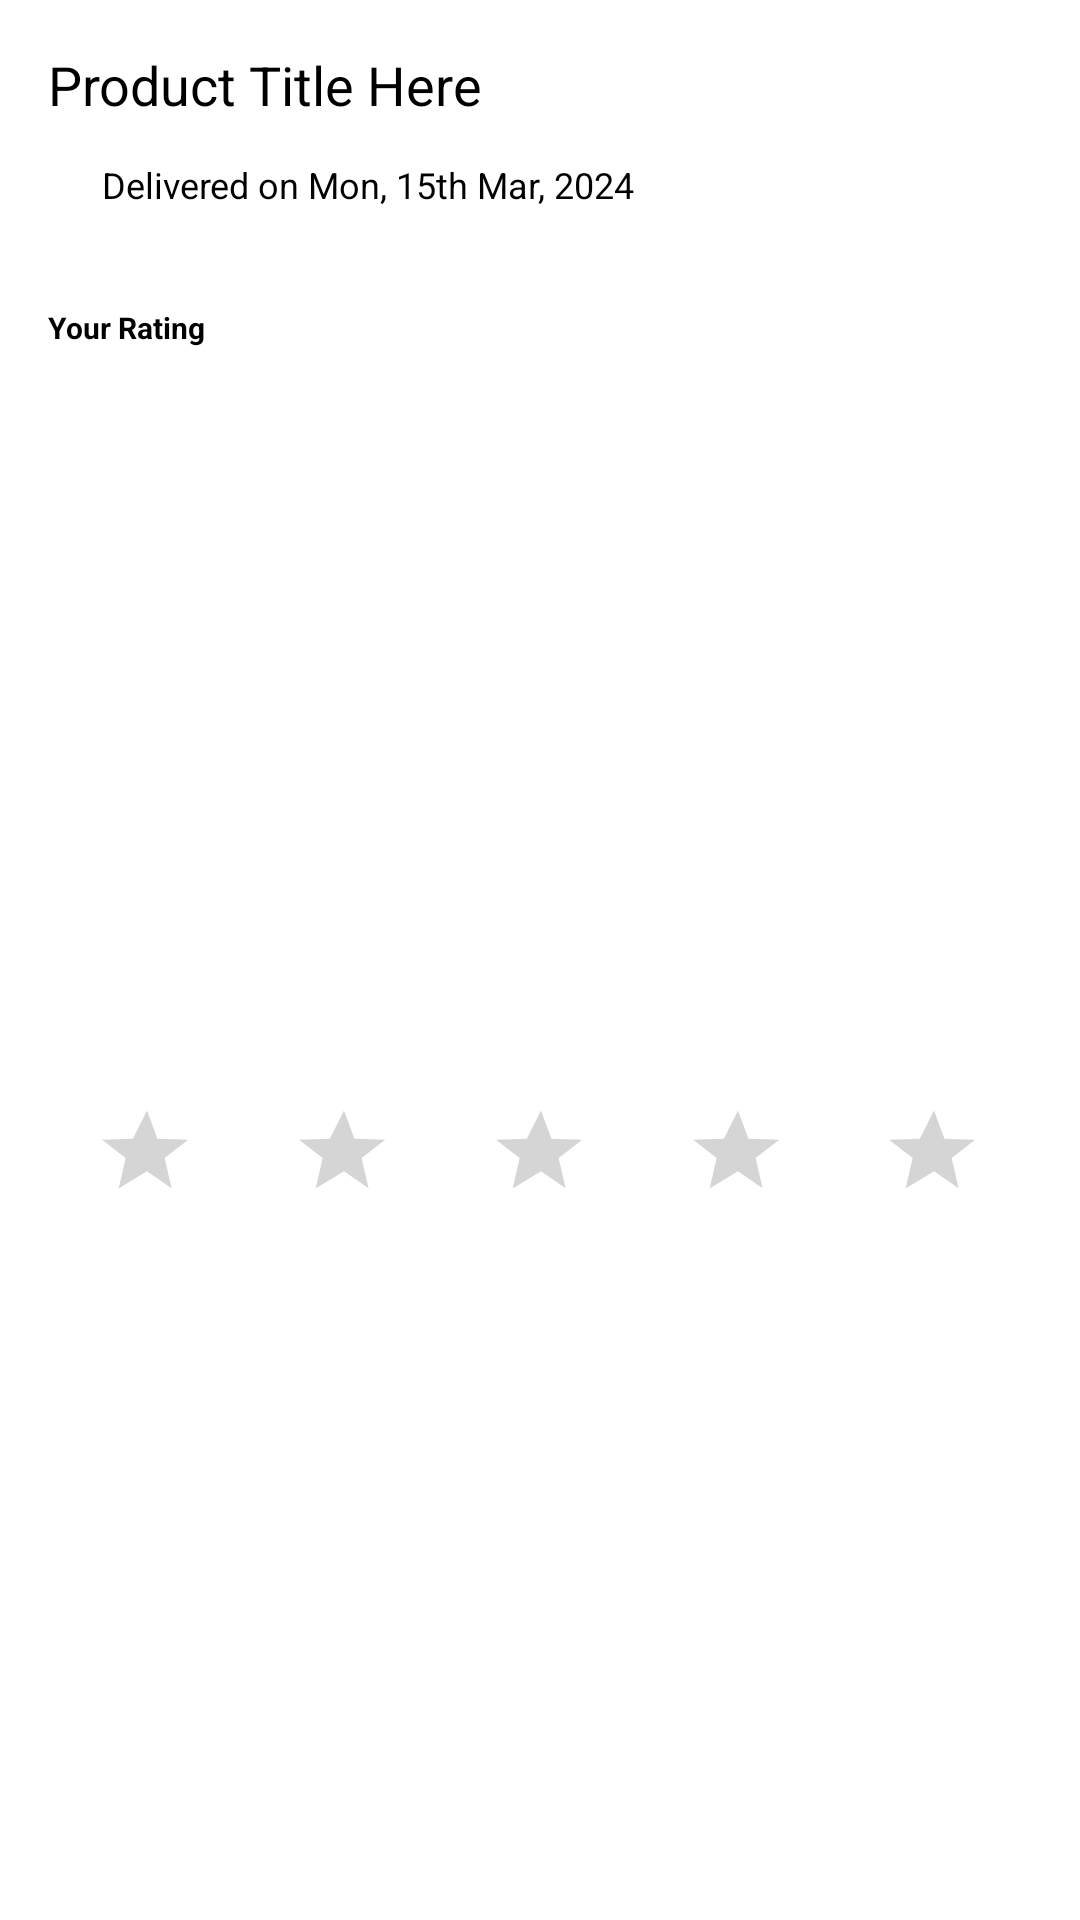

Locate icon controls on the screen. Image size 1080w x 1920h, boxes as (x1, y1, x2, y2).
star: (103, 1112, 187, 1188), (300, 1112, 384, 1188), (497, 1112, 581, 1188), (694, 1112, 778, 1188), (890, 1112, 974, 1188)
